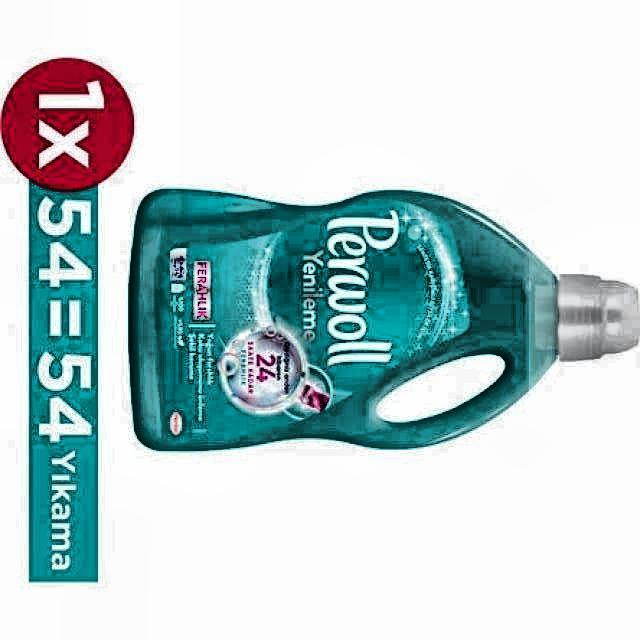plastic: (129, 190, 640, 450)
